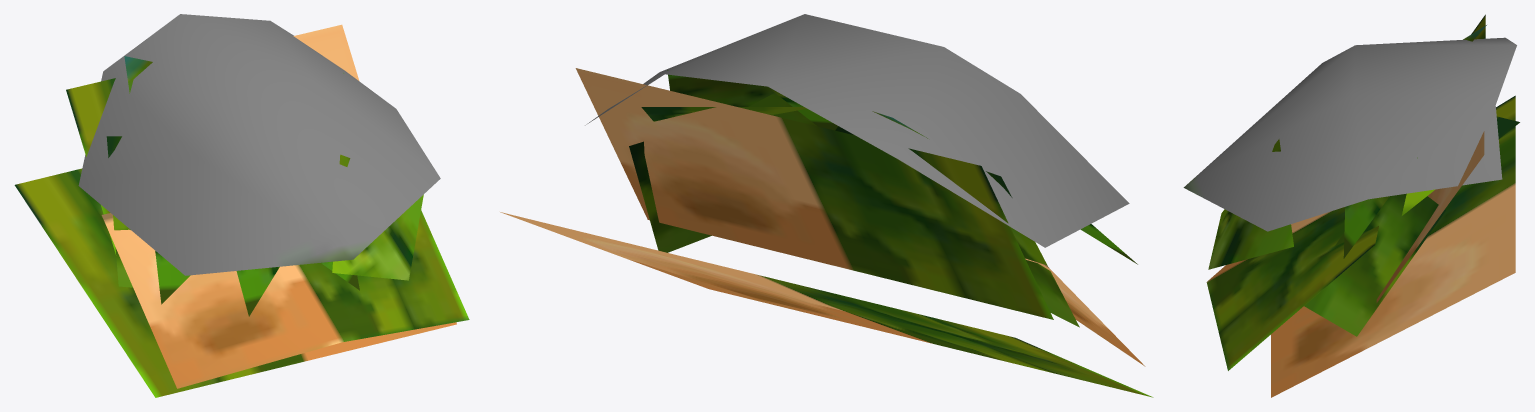
The model's file is fg_bushD_2_s.dae.
The picture shows the model from 3 angles, left to right: view 1: azimuth 30°, elevation 25°; view 2: azimuth 150°, elevation 25°; view 3: azimuth 270°, elevation 25°; orthographic projection. The views are drawn at different scales.
Visible parts, largest first — view 1: fg_bushD_2_s; view 2: fg_bushD_2_s; view 3: fg_bushD_2_s.
Boxes of the visible parts, x1=… form: fg_bushD_2_s: x1=14, y1=14, x2=469, y2=397; fg_bushD_2_s: x1=500, y1=14, x2=1153, y2=397; fg_bushD_2_s: x1=1183, y1=14, x2=1519, y2=397.
Size of the model in its own units: 47.83 by 34.27 by 38.41.
1 material, 1 textured.
